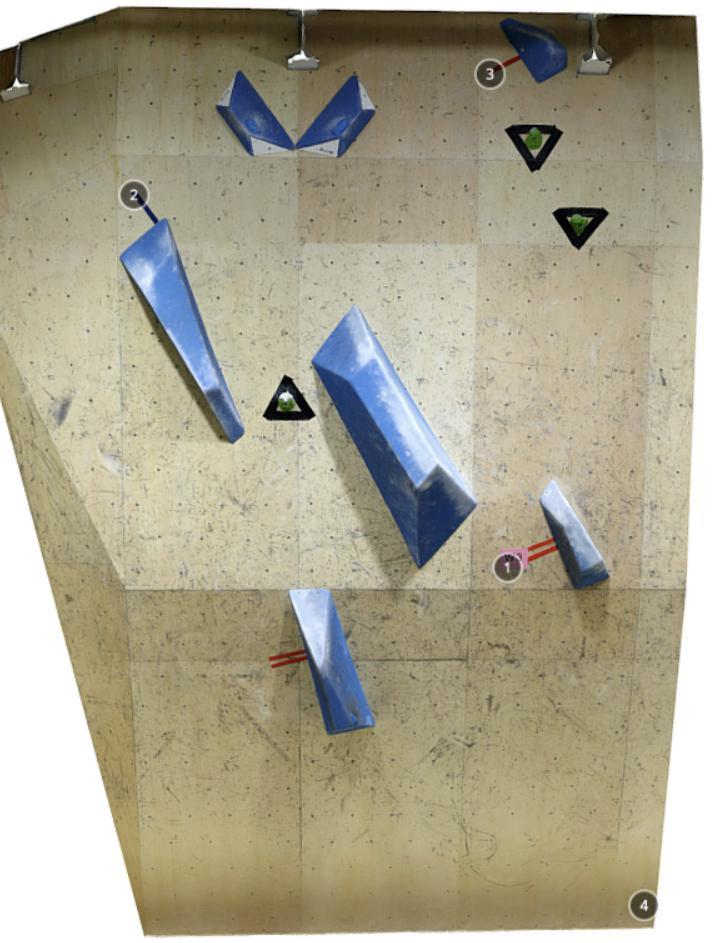hold: (311, 302, 477, 568), (118, 219, 245, 445), (288, 589, 376, 735), (538, 480, 610, 591), (215, 70, 296, 156), (297, 73, 377, 158), (500, 17, 567, 84), (505, 124, 563, 176), (553, 206, 610, 250), (263, 375, 316, 422)
